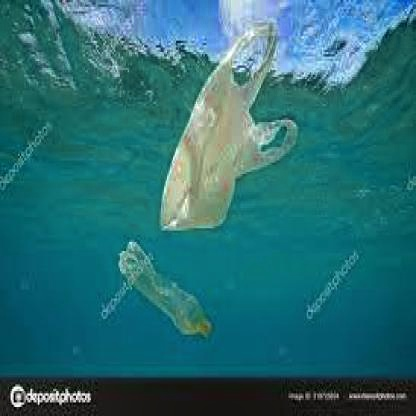pbag: (160, 20, 298, 233)
pbottle: (117, 238, 214, 342)
